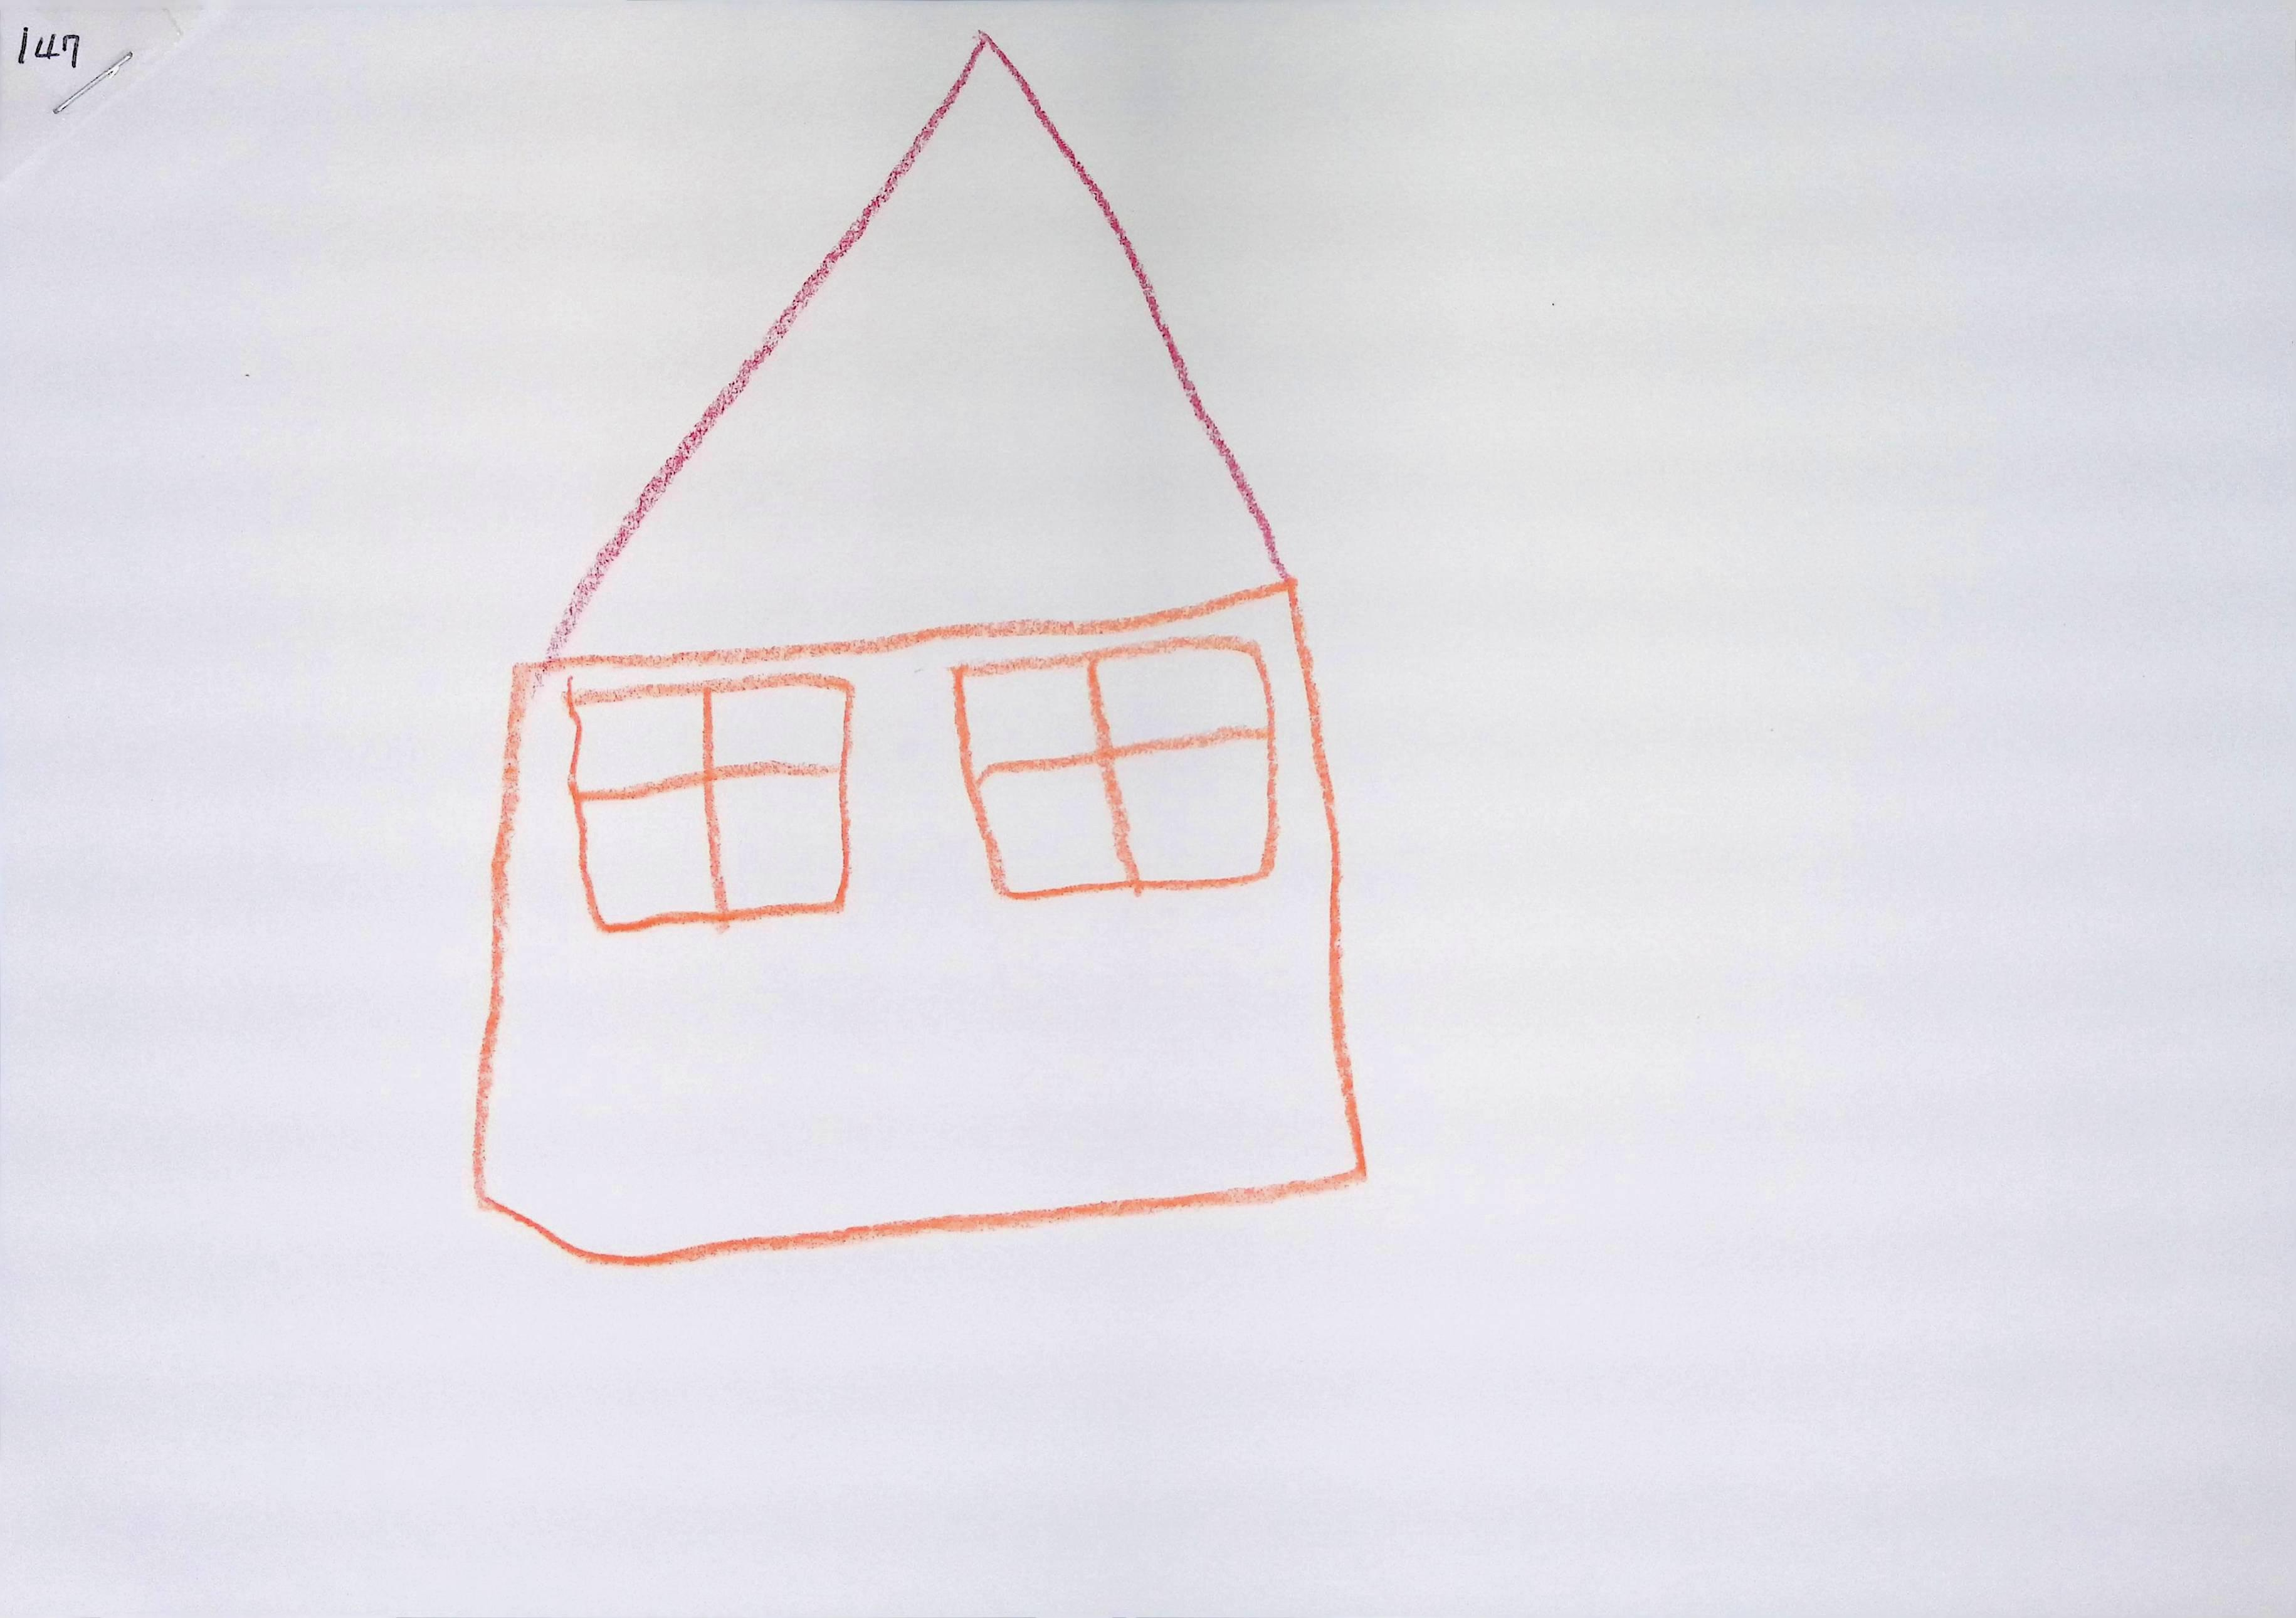house: (474, 30, 1365, 1263)
roof: (511, 30, 1293, 676)
wall: (474, 580, 1365, 1263)
window: (955, 637, 1276, 897), (567, 672, 852, 930)
